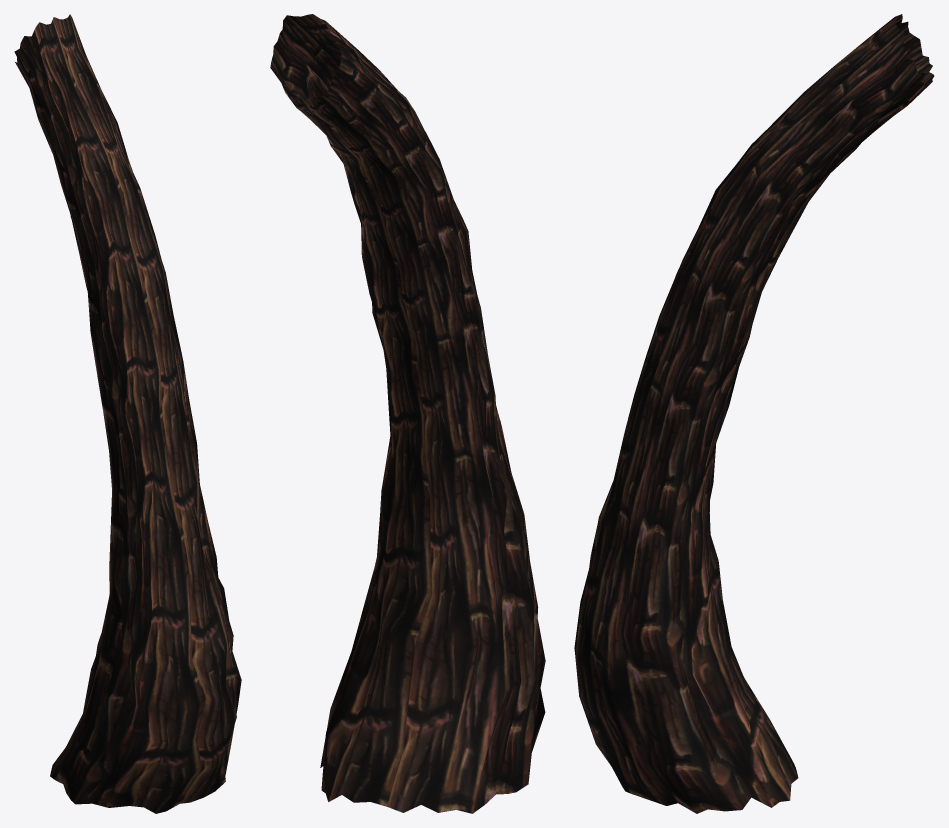
The model's file is tree_05.FBX.
3 views of the same model, side by side, from view 1: azimuth 30°, elevation 25°; view 2: azimuth 150°, elevation 25°; view 3: azimuth 270°, elevation 25° (orthographic). The views are drawn at different scales.
Parts seen in each view (by area): view 1: t_05; view 2: t_05; view 3: t_05.
Part boxes in pixels (left/top/right/bottom): t_05: left=14, top=14, right=241, bottom=813; t_05: left=270, top=14, right=545, bottom=813; t_05: left=574, top=14, right=934, bottom=813.
Size of the model in its own units: 25 by 110 by 47.05.
